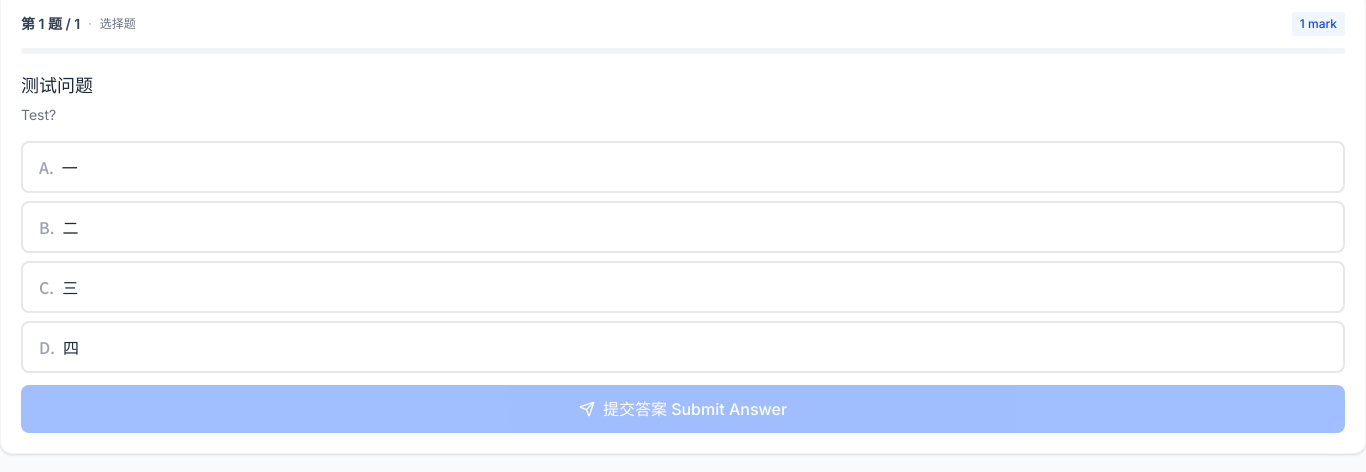
Test: QuestionCard — click flow regression › after submit, only Try Again + Next appear
Step 1. Click the radio button labelled "B.二" → (44, 227), box [21,201,1345,253]
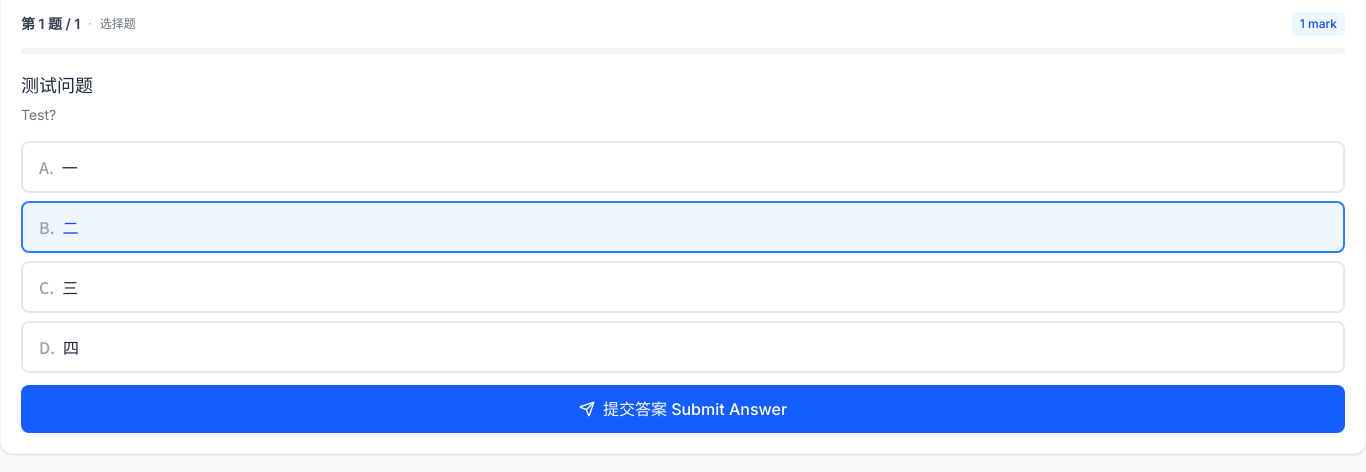
Step 2. Click the button "提交答案 Submit Answer" → (683, 409), box [21,385,1345,433]
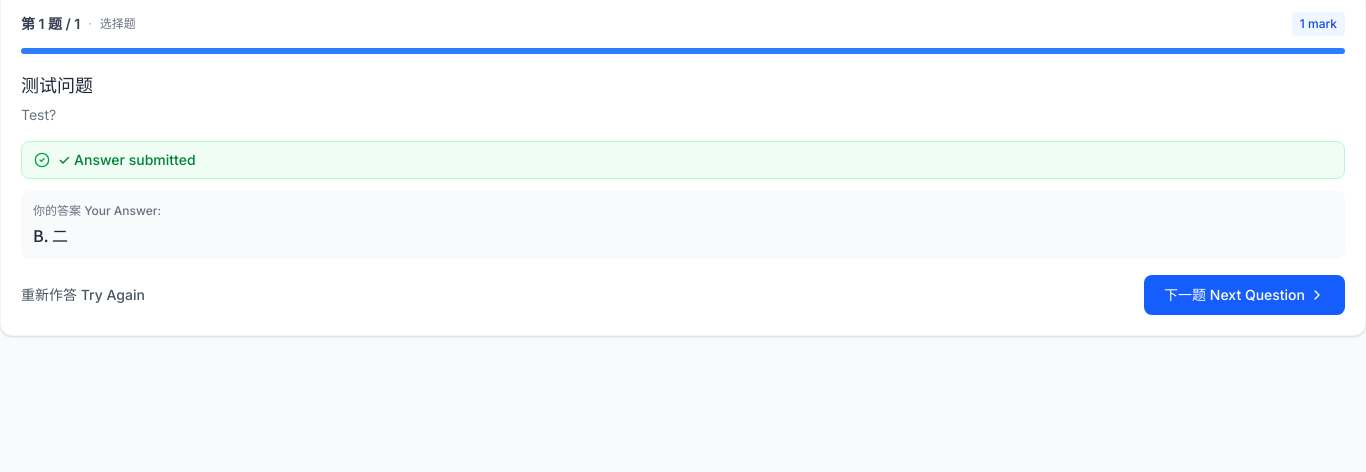
Expected: the button "Submit Answer" is gone
Expected: the button "下一题 Next Question" is shown, [1144,275,1345,315]
Expected: the button "重新作答 Try Again" is shown, [21,285,145,305]
